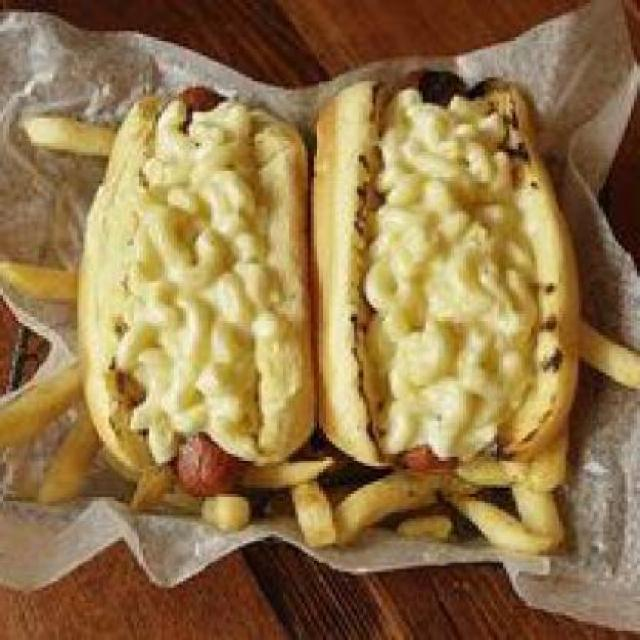french fries: (31, 456, 569, 538)
hot dog: (177, 428, 454, 494), (177, 62, 460, 115)
macaroni and cheese: (127, 96, 522, 444)
